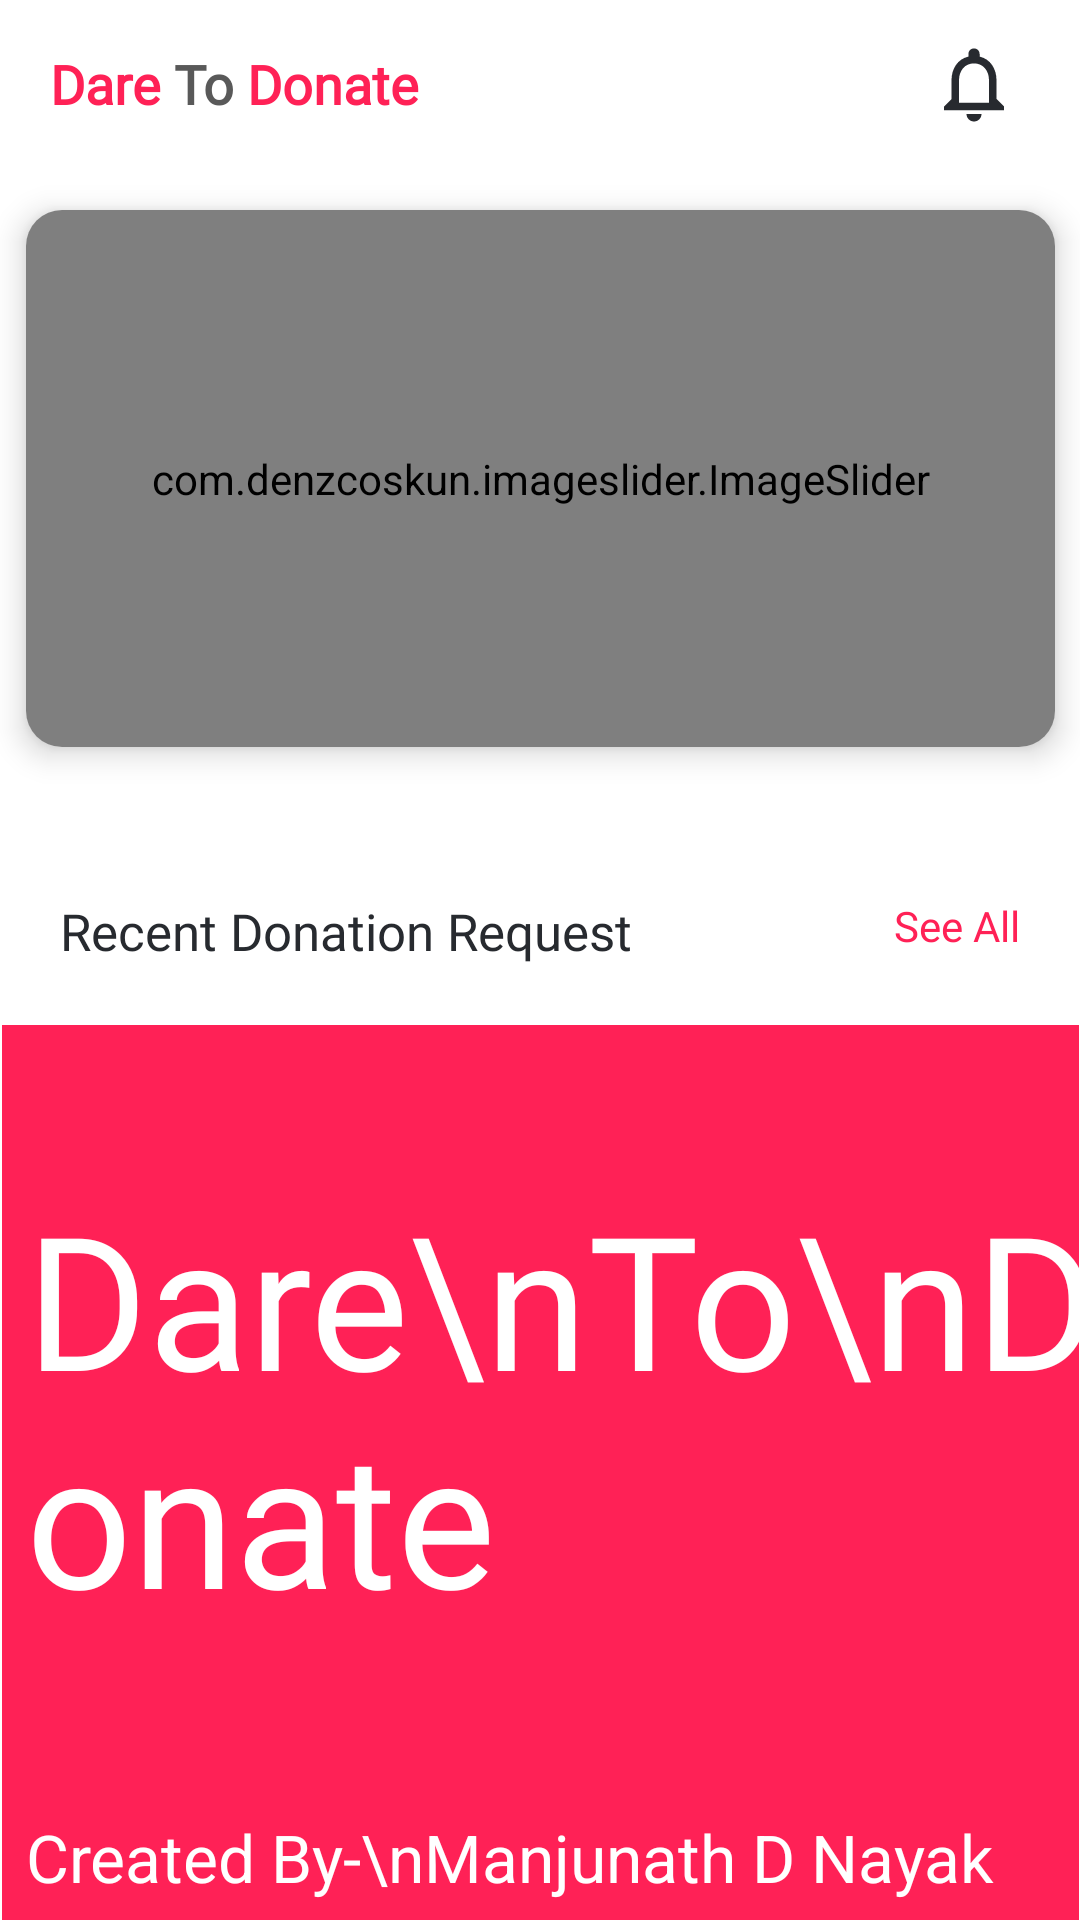

Locate icon controls on the screen. Image size 1080*1920, boxes as (x1,y1,x2,y2).
notifications: (944,48,1004,122)
